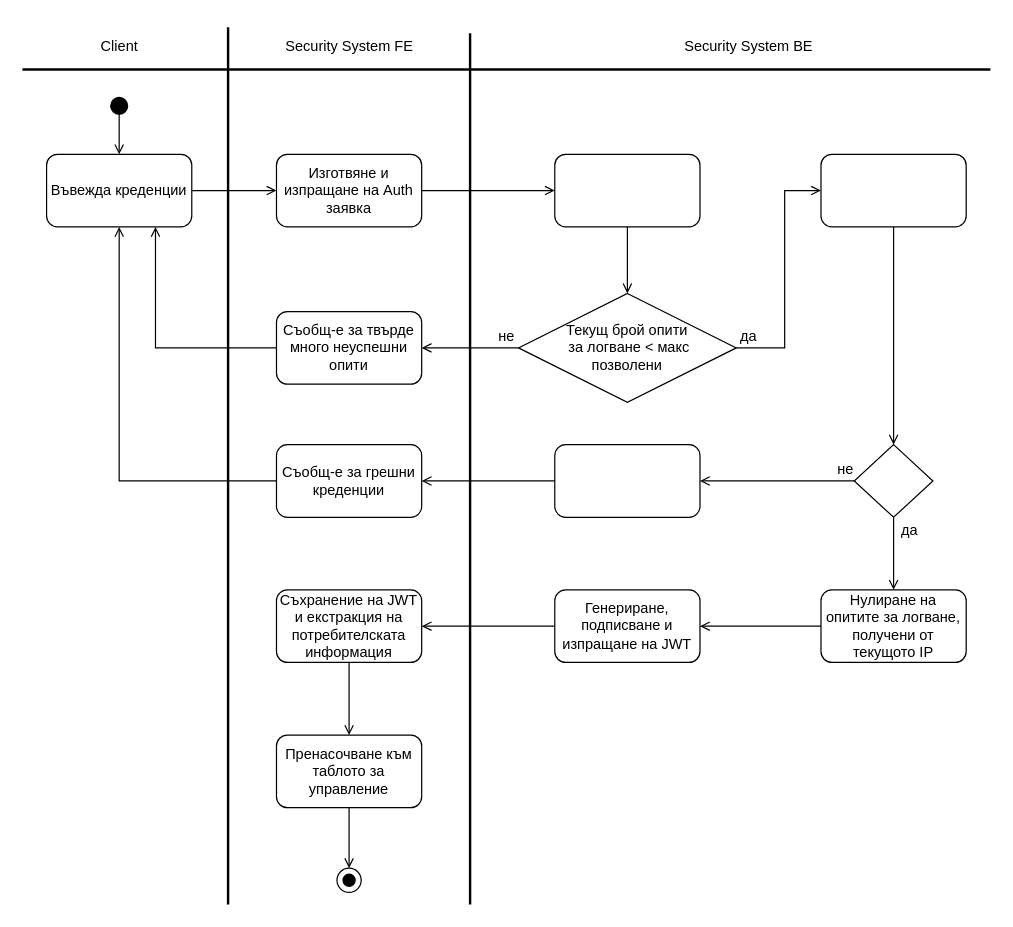
Image size: 1013x927. Some labels were removed from this diagram. The centre of each missing label's shape, as x and y in pixels:
"Верификация на подадените креденции" goes at pixel 893 190.
"Инкрементиране на неуспешните опити, получени от текущото IP" goes at pixel 627 480.
"ОК?" goes at pixel 893 480.
"Проверка на брой опити за логване" goes at pixel 627 190.
